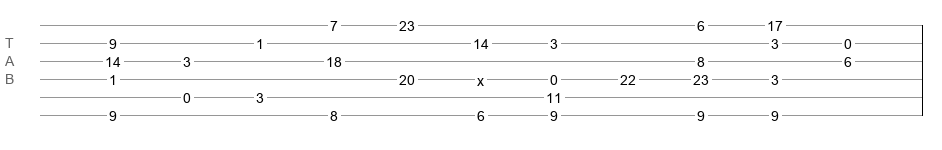0: (183, 90, 191, 100), (550, 72, 558, 82), (844, 36, 852, 46)
1: (109, 72, 117, 82), (256, 36, 264, 46)
11: (546, 90, 562, 100)
14: (105, 54, 121, 64), (473, 36, 489, 46)
17: (767, 18, 783, 28)
18: (326, 54, 342, 64)
20: (399, 72, 415, 82)
22: (620, 72, 636, 82)
23: (399, 18, 415, 28), (693, 72, 709, 82)
3: (183, 54, 191, 64), (256, 90, 264, 100), (550, 36, 558, 46), (771, 36, 779, 46), (771, 72, 779, 82)
6: (477, 108, 485, 118), (697, 18, 705, 28), (844, 54, 852, 64)
7: (330, 18, 338, 28)
8: (330, 108, 338, 118), (697, 54, 705, 64)
9: (109, 108, 117, 118), (109, 36, 117, 46), (550, 108, 558, 118), (697, 108, 705, 118), (771, 108, 779, 118)
x: (477, 73, 484, 81)
